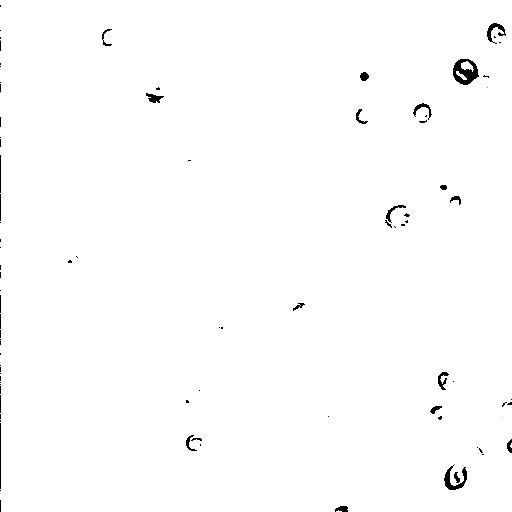micro-algae: (429, 425, 512, 511), (403, 13, 484, 90), (0, 206, 69, 282), (444, 13, 511, 83), (57, 243, 111, 293), (327, 203, 377, 257), (137, 0, 206, 35), (0, 42, 44, 90), (95, 157, 135, 195), (374, 14, 411, 51), (347, 57, 379, 95), (26, 1, 76, 24), (139, 70, 171, 105), (382, 202, 413, 231), (115, 336, 145, 365), (1, 122, 27, 155), (450, 57, 479, 86), (288, 301, 320, 327), (441, 462, 468, 492), (175, 146, 200, 177), (467, 73, 495, 99), (429, 174, 454, 198), (91, 494, 124, 512), (461, 444, 483, 469), (485, 21, 507, 45), (185, 389, 209, 408), (63, 254, 84, 275), (412, 101, 431, 123), (436, 371, 456, 391), (354, 104, 372, 125), (429, 403, 447, 422), (99, 27, 117, 45), (186, 434, 205, 451), (500, 397, 511, 421), (447, 196, 463, 209), (503, 433, 511, 455), (331, 503, 350, 512)
